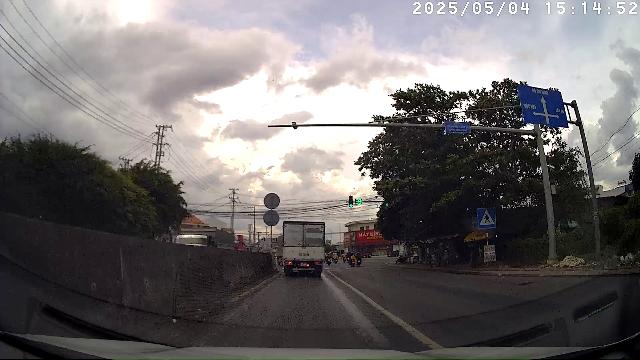423a-duong-nguoi-di-bo-sang-ngang-1: (477, 206, 497, 229)
